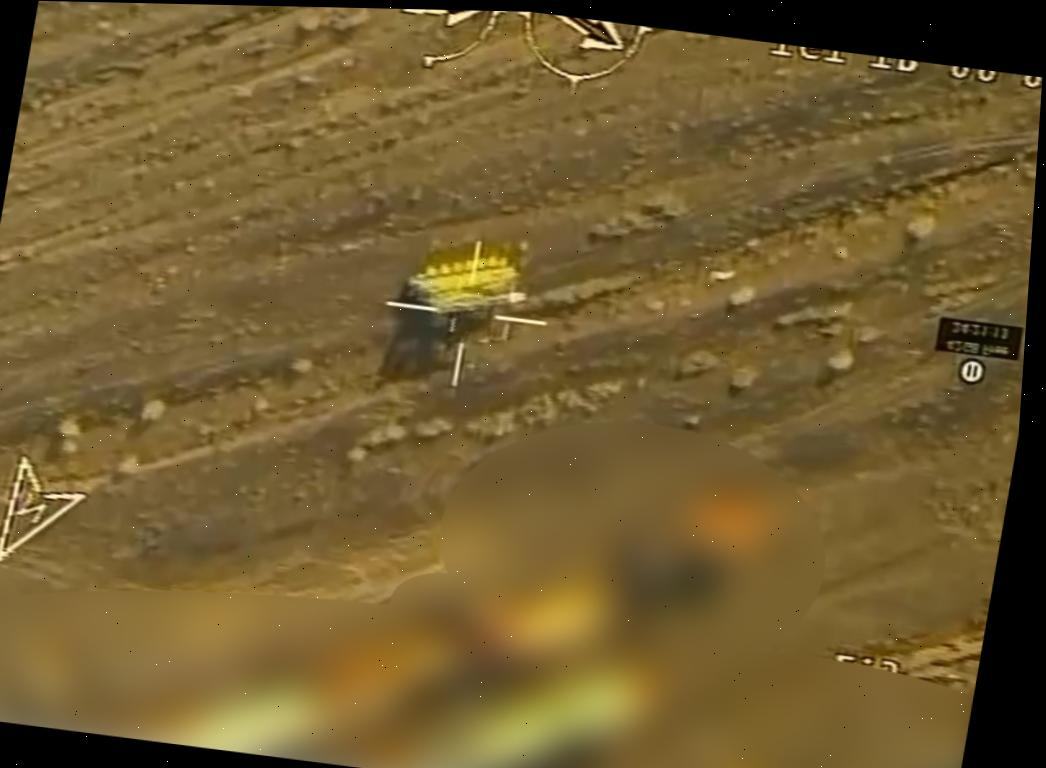armored_car: (391, 230, 542, 327)
